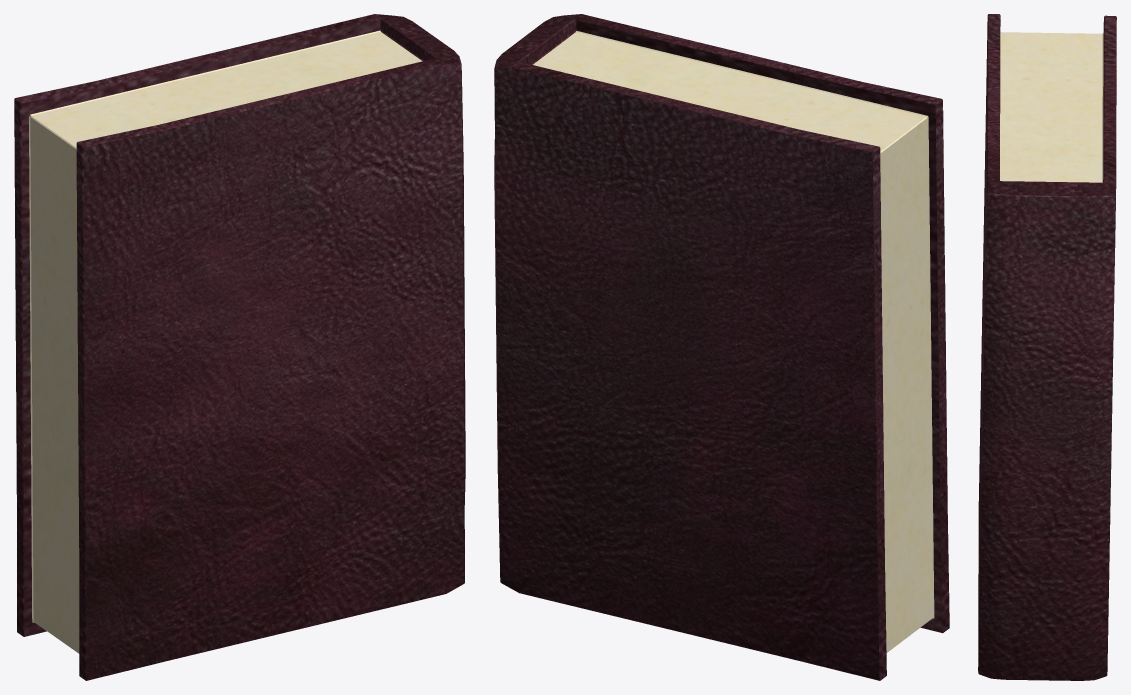
Rendered from smallBookDarkRed.fbx.
3 views of the same model, side by side, from view 1: azimuth 30°, elevation 25°; view 2: azimuth 150°, elevation 25°; view 3: azimuth 270°, elevation 25° (orthographic). The views are drawn at different scales.
Parts seen in each view (by area): view 1: book5; view 2: book5; view 3: book5.
Boxes of the visible parts, x1,y1,x2,y2 form: book5: (14,14,465,680); book5: (494,14,949,680); book5: (978,14,1116,680).
Size of the model in its own units: 17.78 by 23.21 by 5.87.
Materials: 1 (1 with a texture image).
